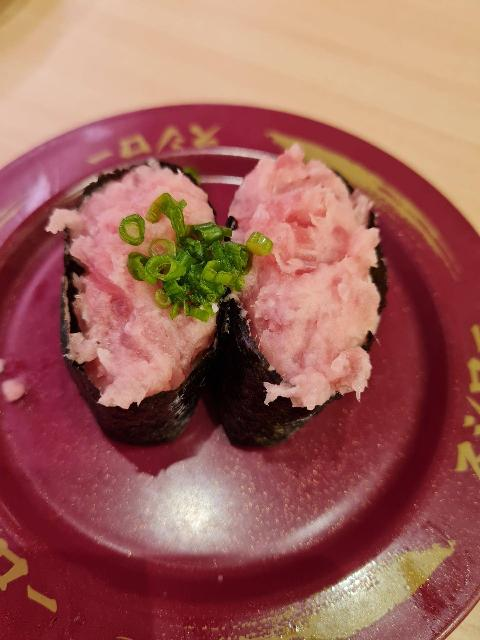janred: (0, 107, 480, 628)
